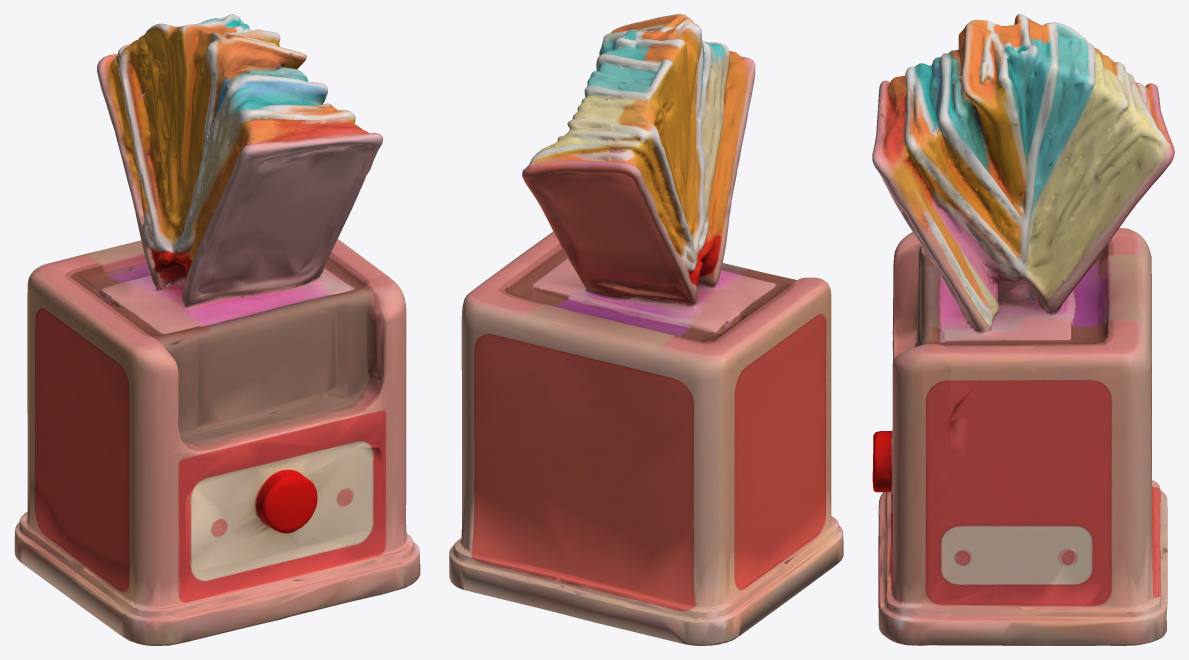
Rendered from diversify.glb.
3 renders of one model, left to right at view 1: azimuth 30°, elevation 25°; view 2: azimuth 150°, elevation 25°; view 3: azimuth 270°, elevation 25°, orthographic. The views are drawn at different scales.
Bounding box in the file's own units: 1.11 × 2 × 1.
1 material, 1 textured.
